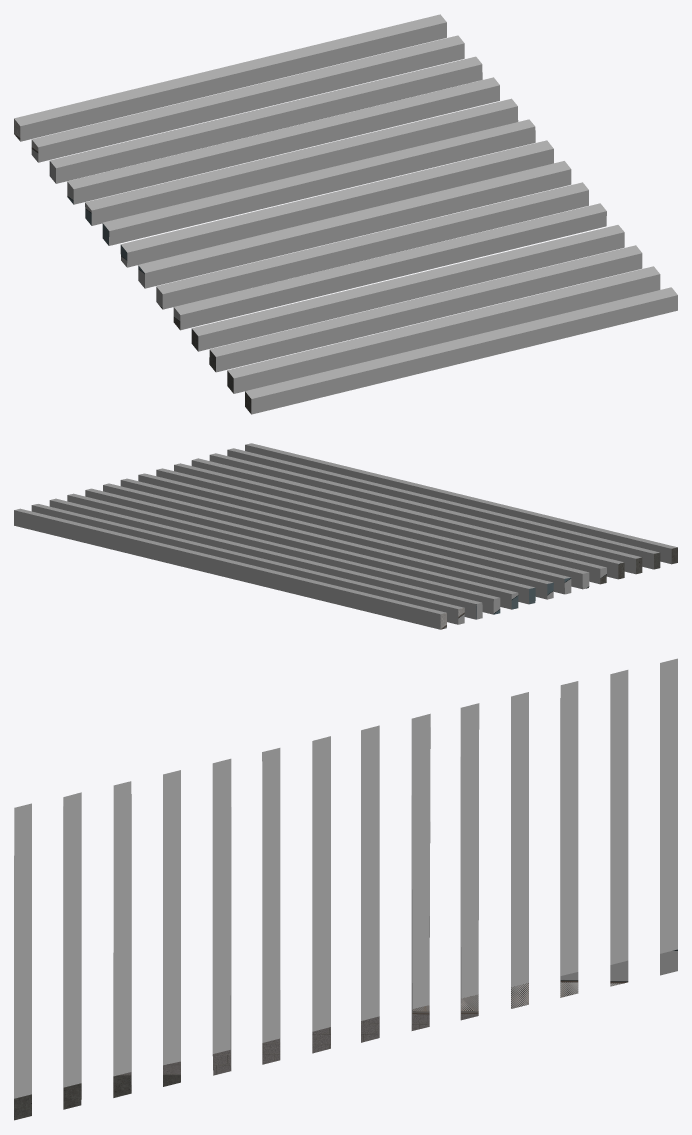
File: arch2.fbx
3 views of the same model, one above another, from view 1: azimuth 30°, elevation 25°; view 2: azimuth 150°, elevation 25°; view 3: azimuth 270°, elevation 25° (orthographic). The views are drawn at different scales.
Visible parts, largest first — view 1: 12DR_Slope.007; view 2: 12DR_Slope.007; view 3: 12DR_Slope.007.
Boxes of the visible parts, box(x1,y1,x2,y2) form: 12DR_Slope.007: box(14, 14, 677, 414); 12DR_Slope.007: box(14, 443, 677, 629); 12DR_Slope.007: box(14, 658, 677, 1120).
Bounding box in the file's own units: 2300 × 631 × 2219.
